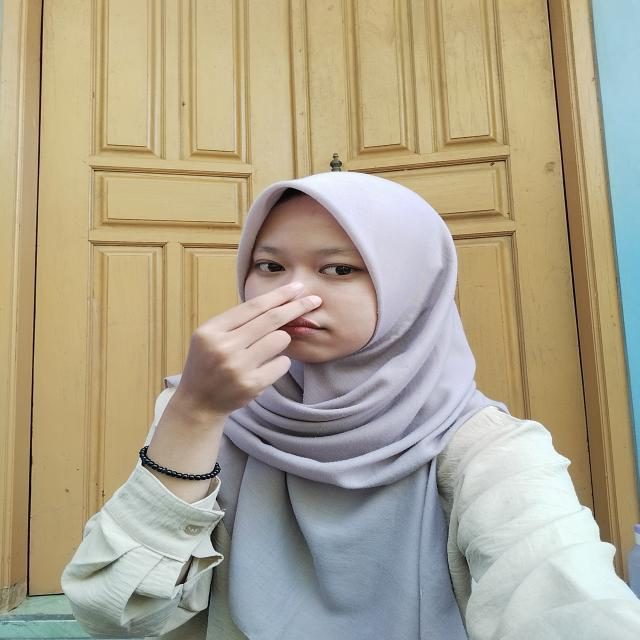bau: (181, 275, 330, 421)
